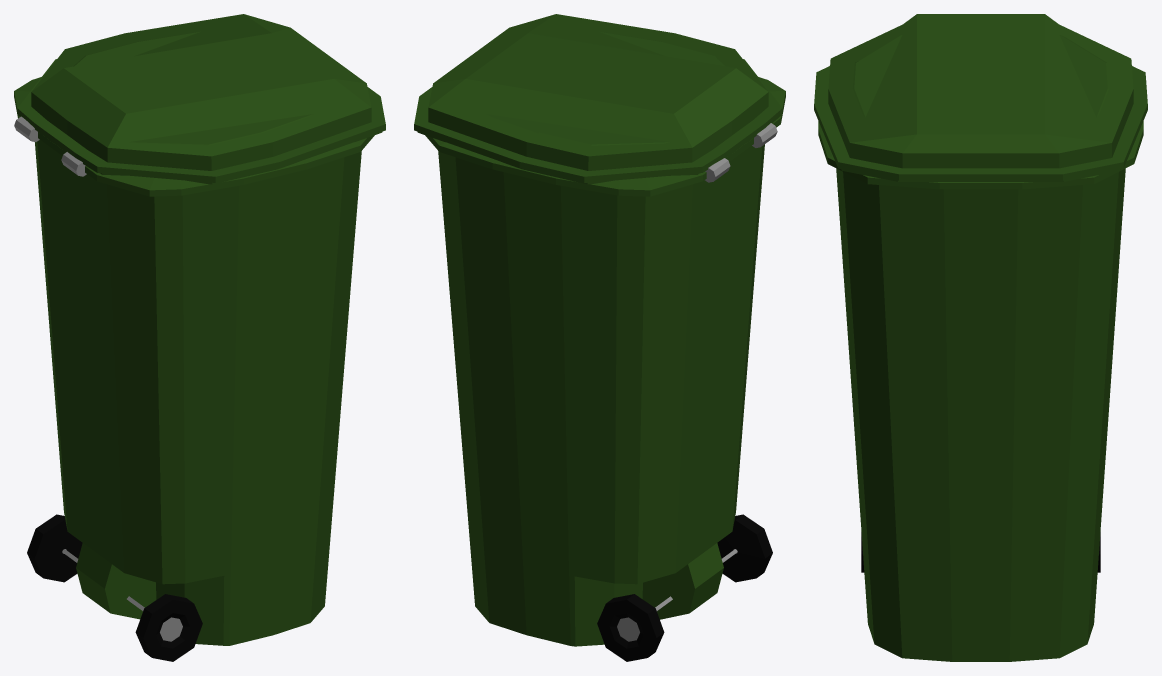
File: TrashCan_Closed.fbx
3 views of the same model, side by side, from view 1: azimuth 30°, elevation 25°; view 2: azimuth 150°, elevation 25°; view 3: azimuth 270°, elevation 25° (orthographic). The views are drawn at different scales.
Visible parts, largest first — view 1: LowPoly.002; view 2: LowPoly.002; view 3: LowPoly.002.
Boxes of the visible parts, x1,y1,x2,y2 form: LowPoly.002: (14, 14, 385, 661); LowPoly.002: (414, 14, 785, 661); LowPoly.002: (814, 14, 1147, 661).
Bounding box in the file's own units: 3.57 × 3.45 × 6.25.
